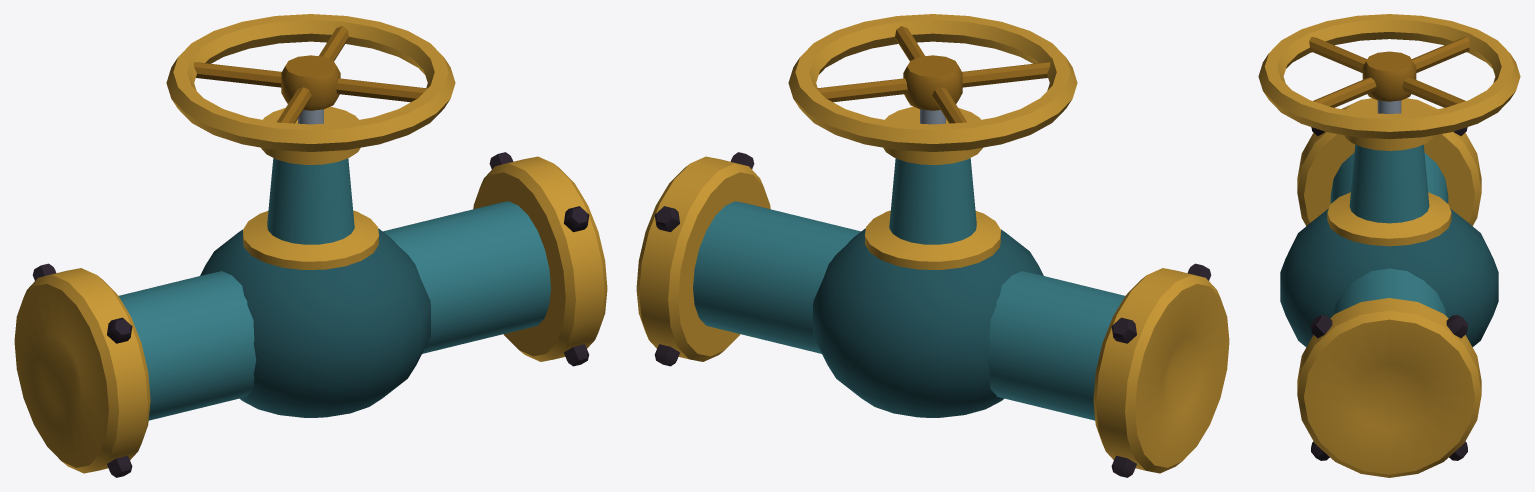
Rendered from Valve_29.glb.
3 views of the same model, side by side, from view 1: azimuth 30°, elevation 25°; view 2: azimuth 150°, elevation 25°; view 3: azimuth 270°, elevation 25° (orthographic). The views are drawn at different scales.
Parts seen in each view (by area): view 1: Valve_29; view 2: Valve_29; view 3: Valve_29.
Part boxes in pixels (bbox=[...]): Valve_29: bbox=[14, 14, 607, 477]; Valve_29: bbox=[636, 14, 1229, 477]; Valve_29: bbox=[1258, 14, 1520, 477].
Bounding box in the file's own units: 3.11 × 2.03 × 1.56.
